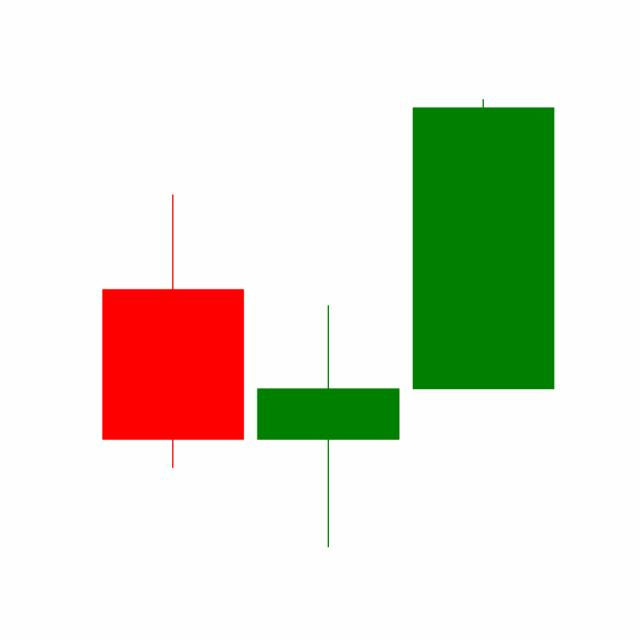Marubozu: (405, 95, 561, 392)
